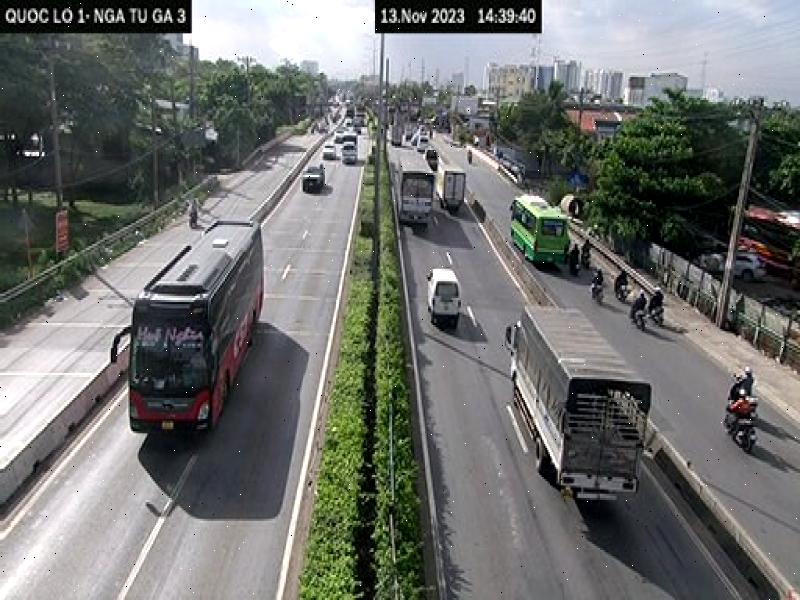bus: (107, 216, 265, 449), (508, 190, 572, 270)
truck: (502, 305, 658, 510)
